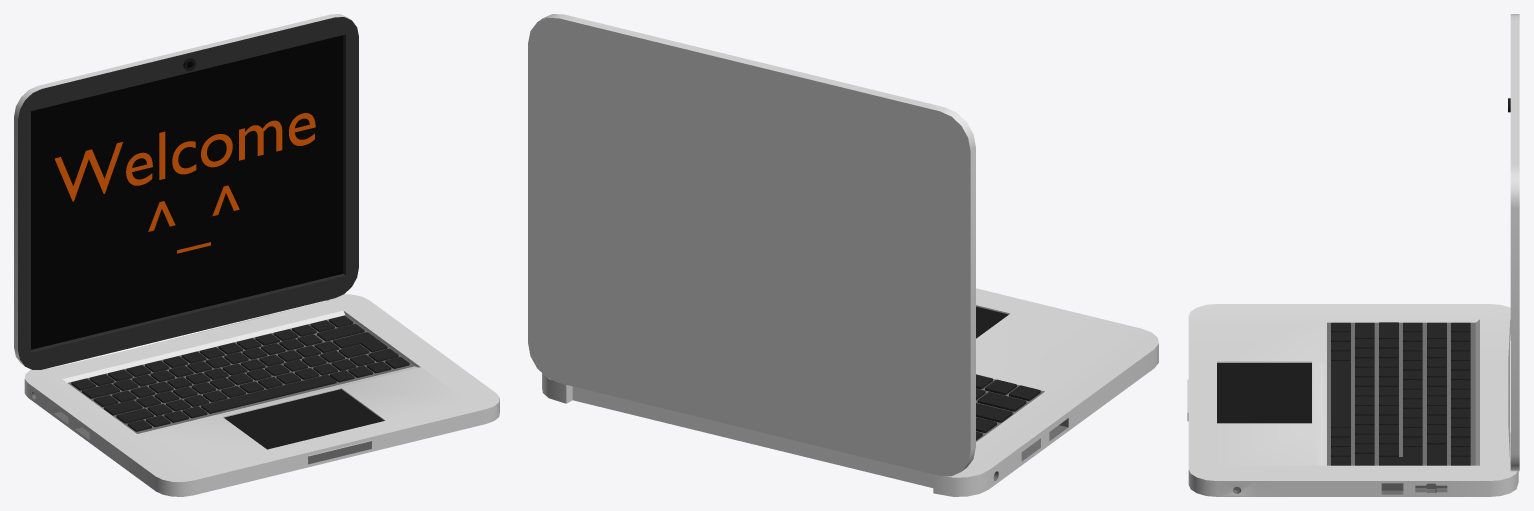
The model's file is laptop.glb.
The picture shows the model from 3 angles, left to right: view 1: azimuth 30°, elevation 25°; view 2: azimuth 150°, elevation 25°; view 3: azimuth 270°, elevation 25°; orthographic projection. The views are drawn at different scales.
Visible parts, largest first — view 1: Pantalla, Cube.001, Fila Inferior, Text; view 2: Pantalla, Cube.001, Fila Inferior; view 3: Cube.001, Fila Inferior, Pantalla.
Boxes of the visible parts, x1,y1,x2,y2 form: Pantalla: [14, 14, 358, 369]; Cube.001: [24, 294, 499, 496]; Fila Inferior: [71, 315, 409, 431]; Text: [54, 113, 315, 253]; Pantalla: [528, 14, 975, 476]; Cube.001: [542, 288, 1158, 496]; Fila Inferior: [976, 374, 1040, 440]; Cube.001: [1187, 304, 1518, 496]; Fila Inferior: [1331, 322, 1470, 465]; Pantalla: [1508, 14, 1519, 471].
Size of the model in its own units: 2.4 by 1.99 by 1.9.
